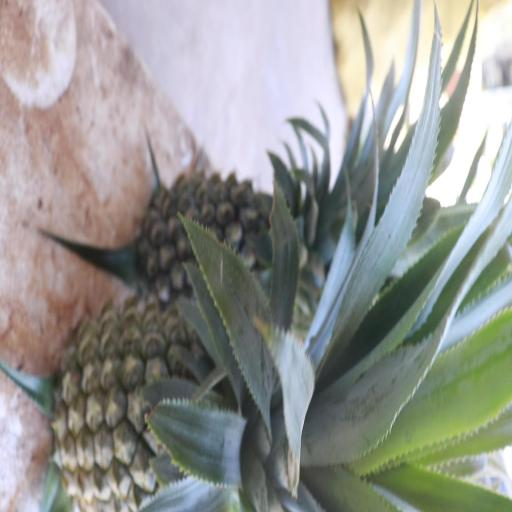------------------------------: (55, 306, 303, 508)
